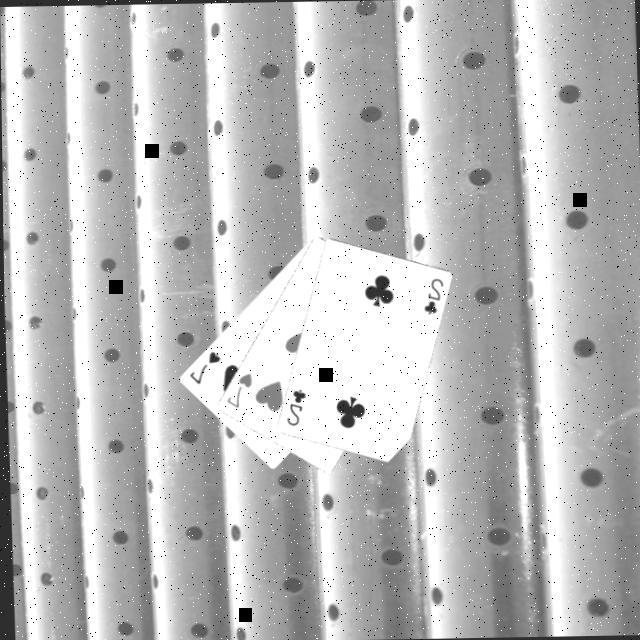2C: (279, 384, 306, 426), (418, 273, 444, 315)
7H: (219, 367, 252, 409)
7S: (182, 346, 222, 384)
